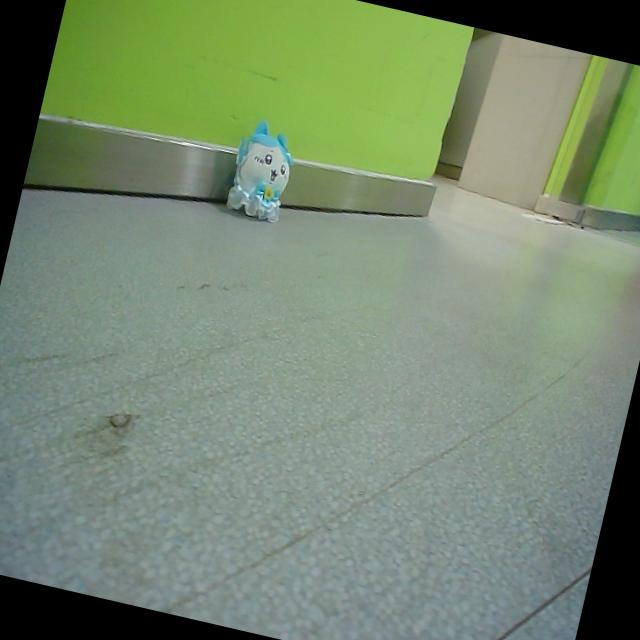xiaoba: (218, 112, 304, 234)
